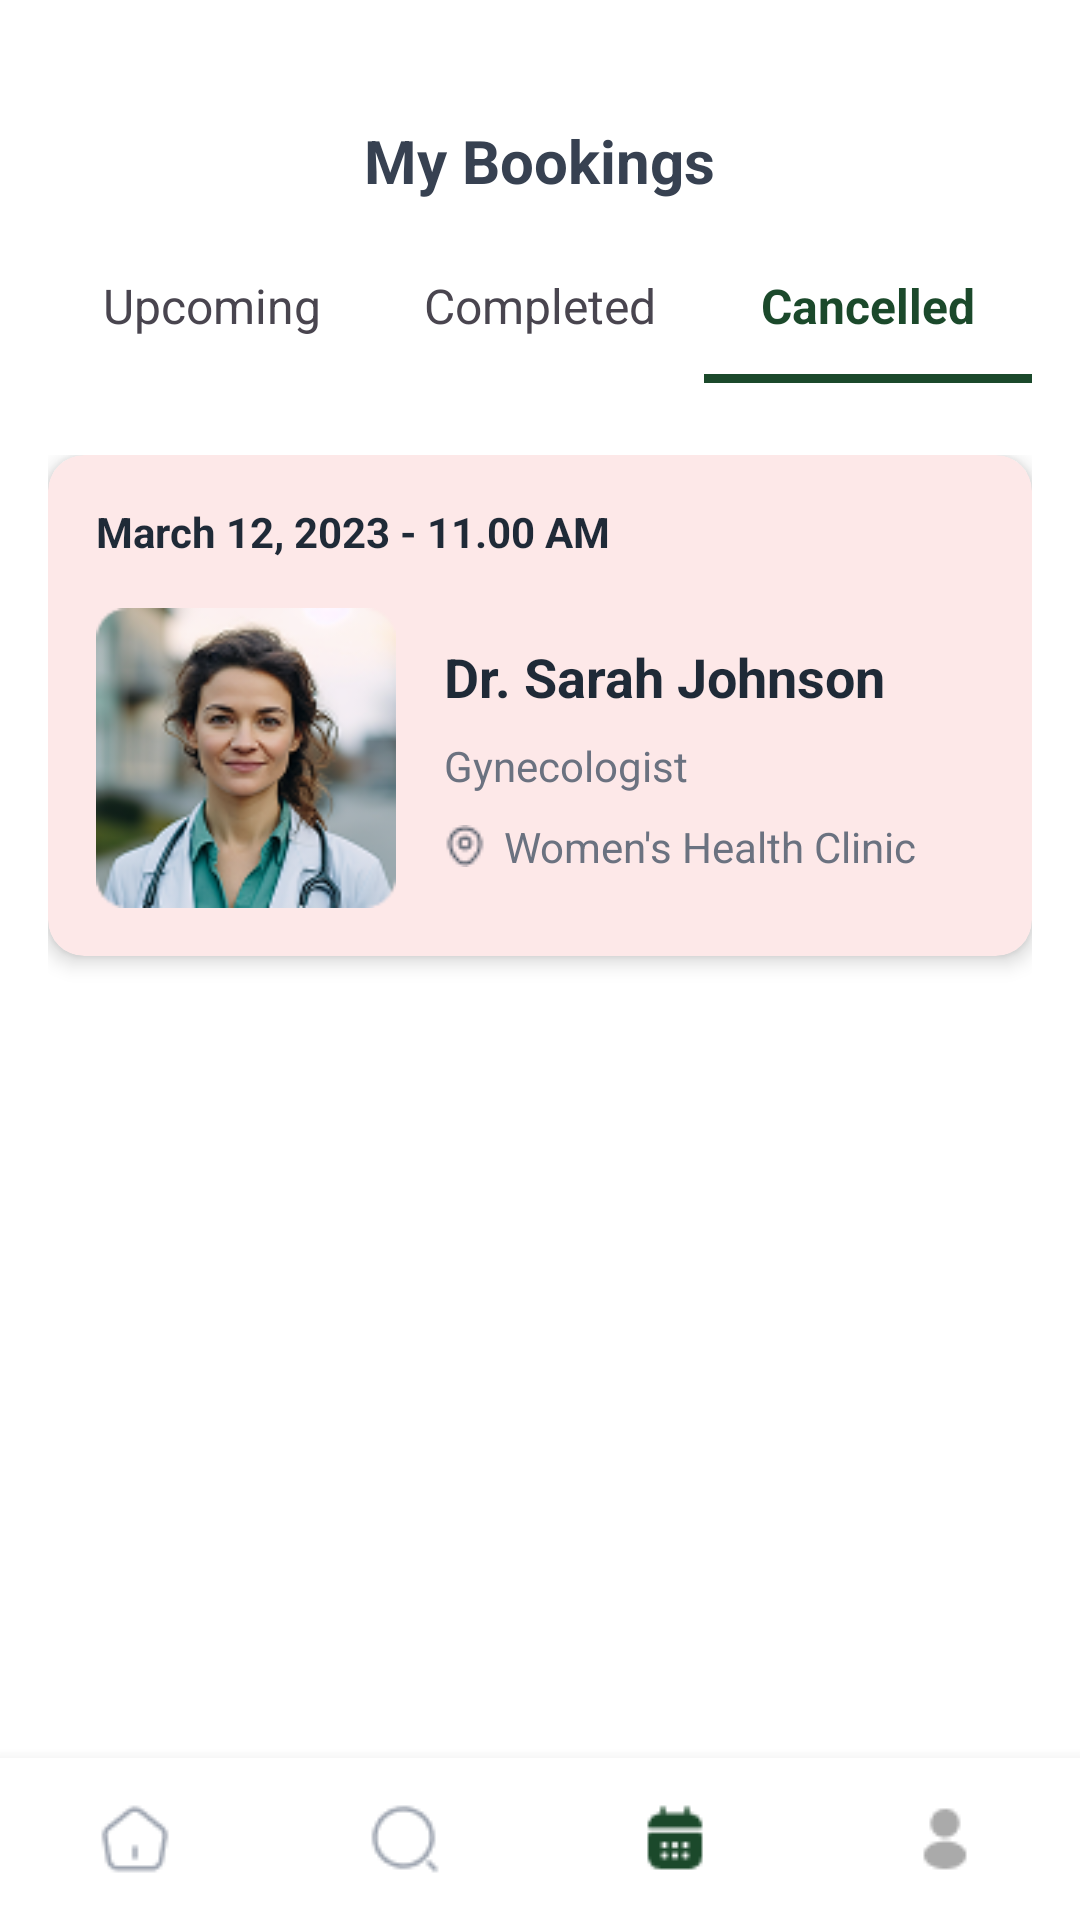

Named icons in this screenshot (1080px x 1920px) and their bounding boxes, (x1, y1, x2, y2):
calendar: (647, 1805, 703, 1870)
home: (102, 1806, 168, 1872)
location: (446, 825, 484, 867)
profile: (923, 1808, 967, 1870)
search: (371, 1805, 438, 1872)
